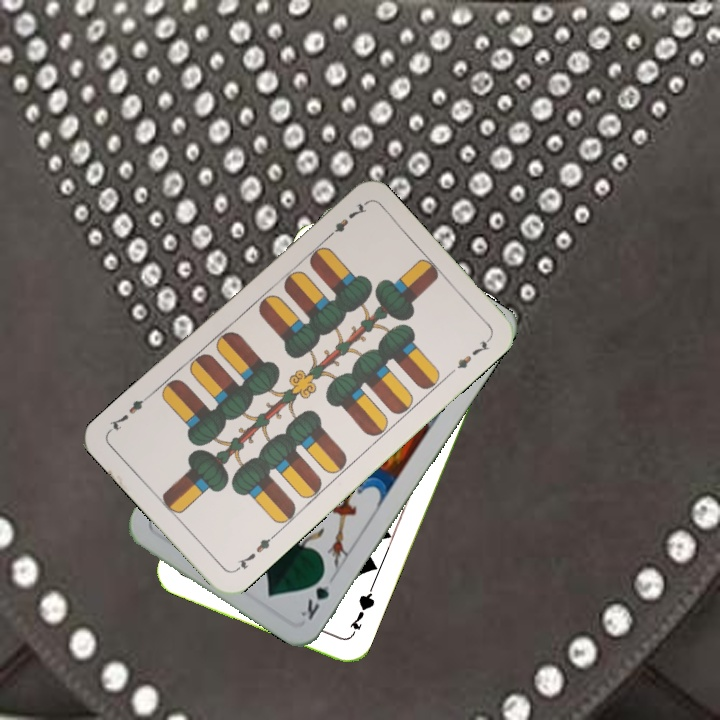E7: (230, 530, 278, 575), (321, 199, 370, 243)
G7: (344, 584, 378, 641)
GK: (296, 567, 332, 623)
